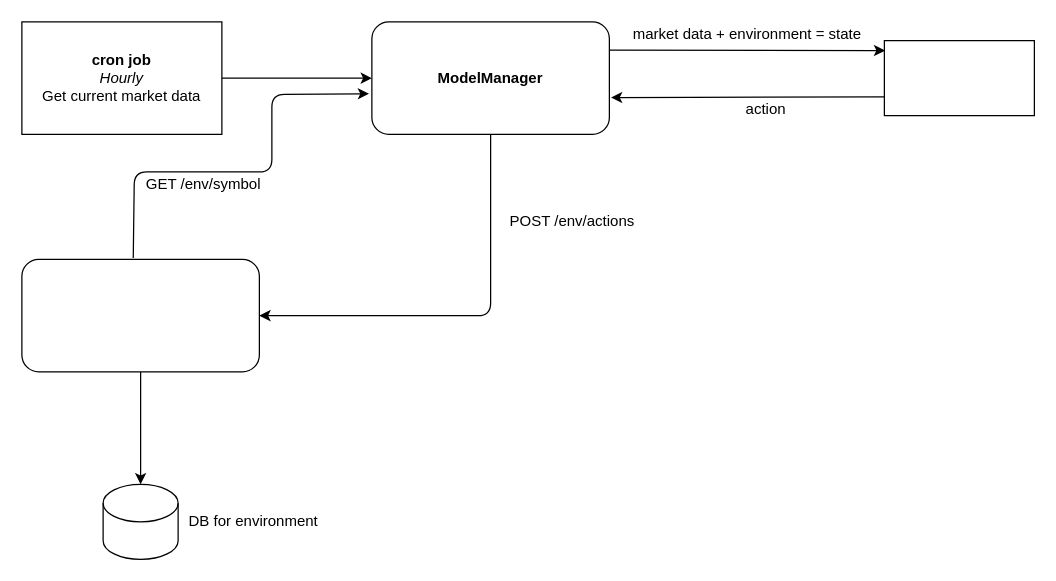
The diagram is 1056 pixels wide and 581 high, and some of its shapes have lost their labels. The centre of each missing label's shape, as x and y in pixels:
"EnvironmentManager" belongs at pixel 140 315.
"Model for symbol" belongs at pixel 958 77.
